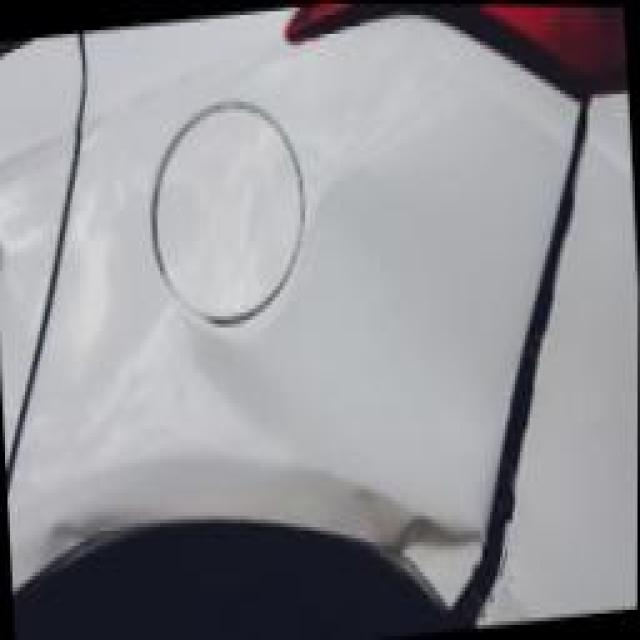Fender: (22, 358, 494, 640)
